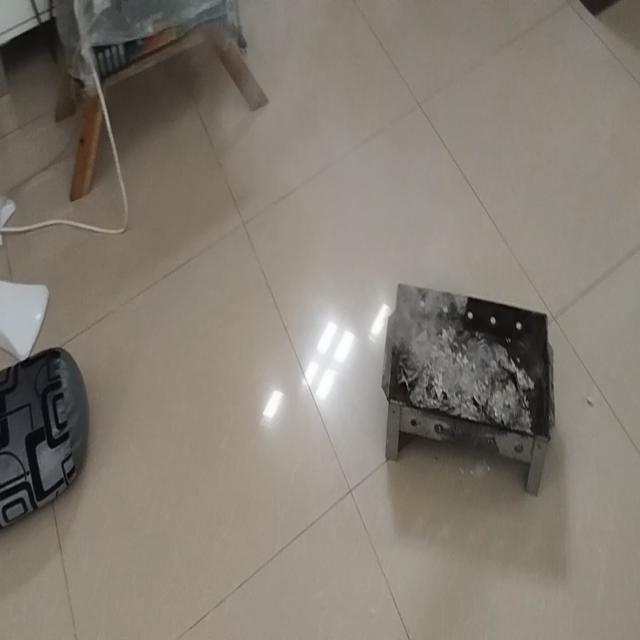fire: (396, 276, 426, 348)
